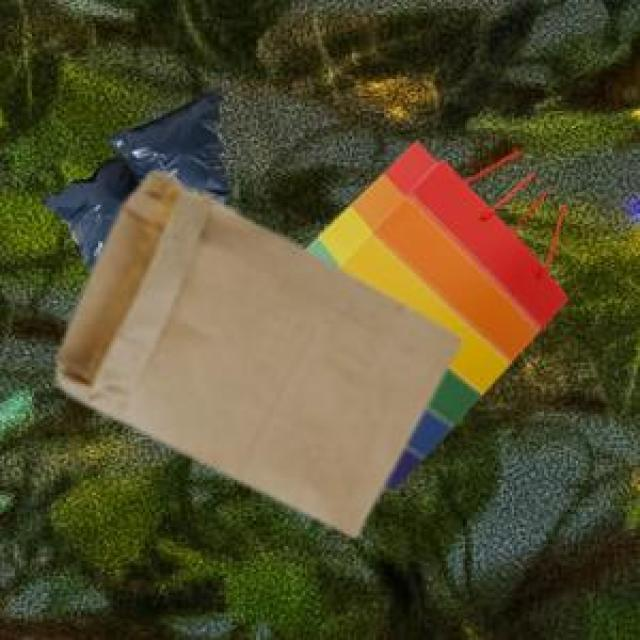miscellaneous trash: (38, 83, 226, 267)
paper: (56, 169, 457, 531), (301, 139, 563, 486)
